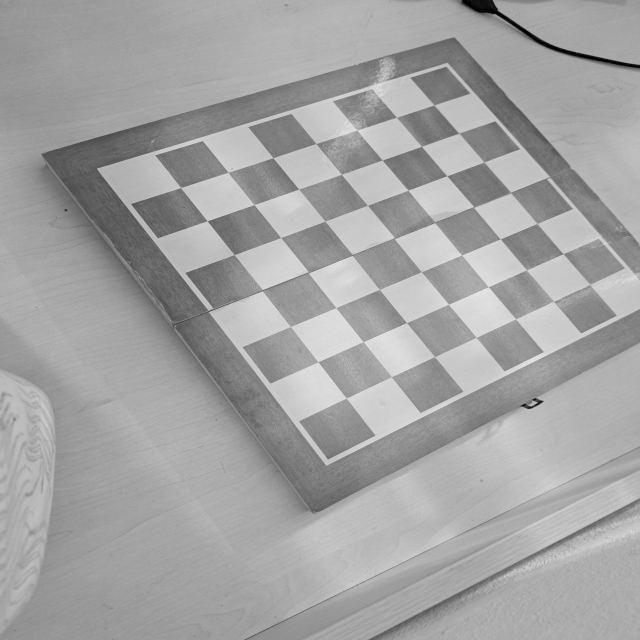chess-table-corners: (315, 449, 341, 468), (93, 163, 116, 179), (435, 61, 456, 75)
